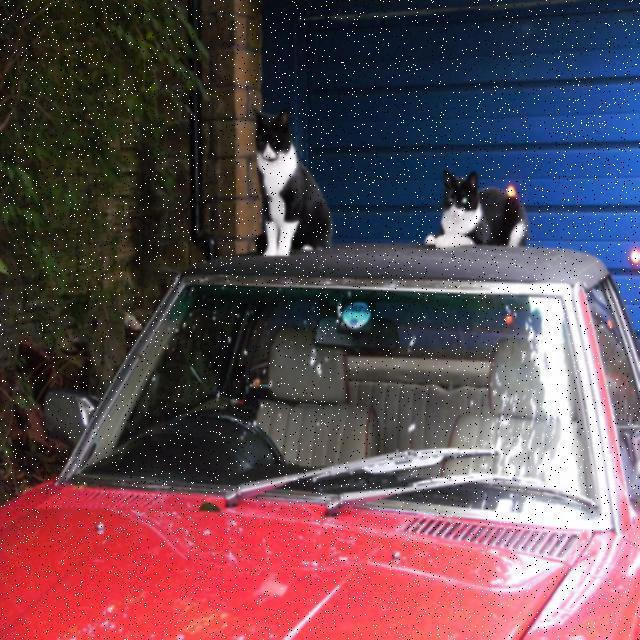bonnet-dent: (4, 464, 582, 639)
